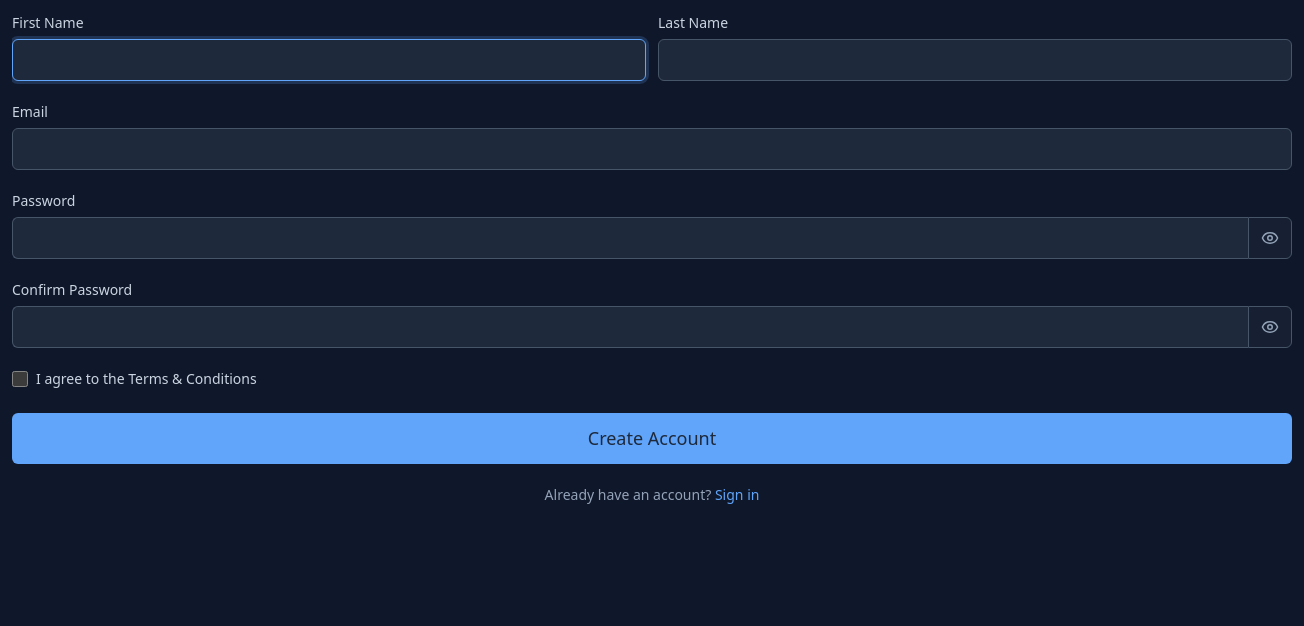
Test case: RegisterForm › validation › shows invalid email error for bad format
The image size is (1304, 626).
Type "notanemail" into the field labelled "Email" at (652, 149), box [12,128,1292,170]
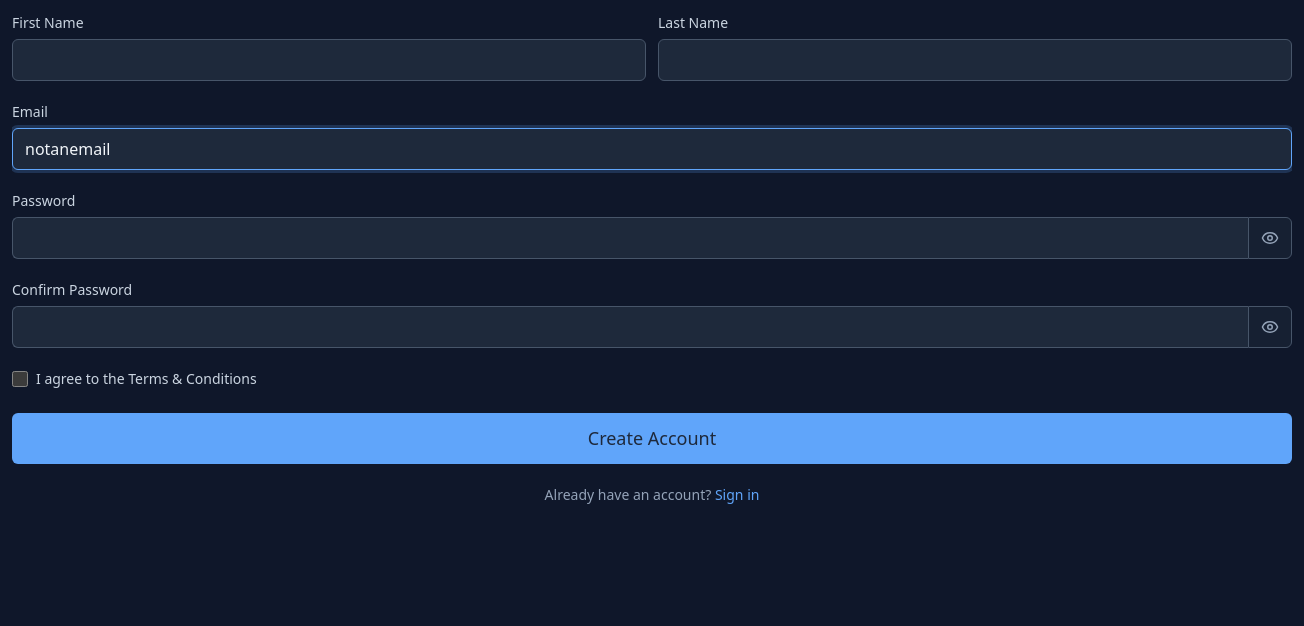
Click the button "Create Account" at (652, 438), box [12,413,1292,464]
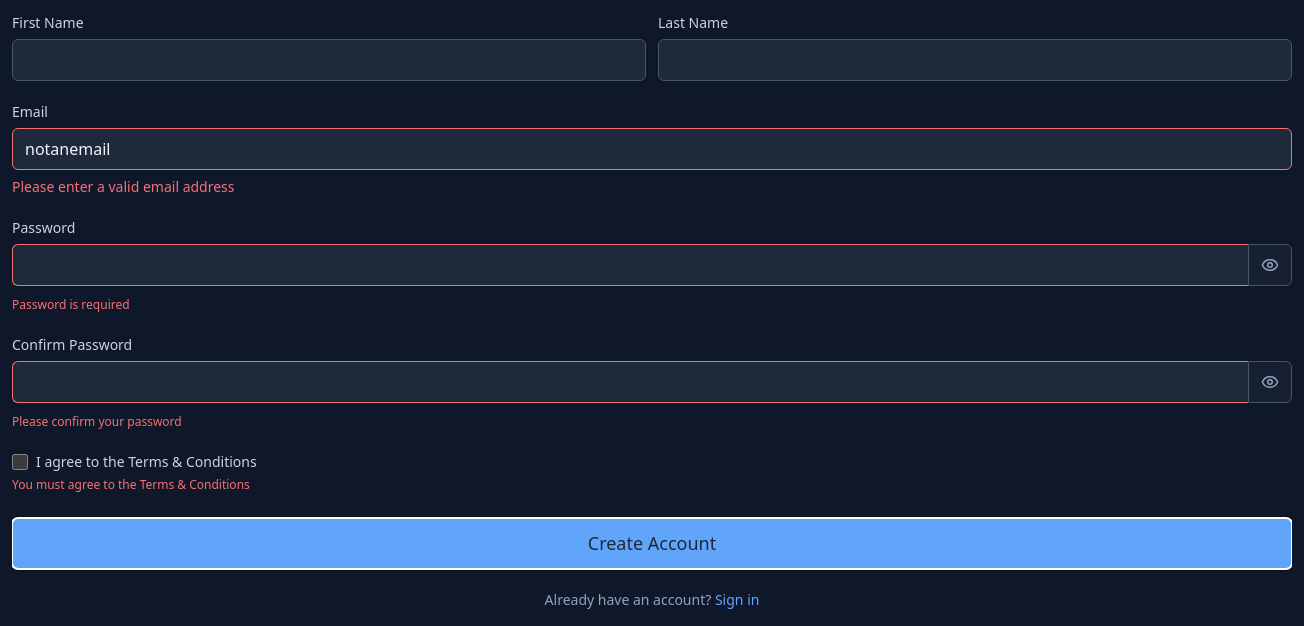
expect the text "Please enter a valid email address" is shown: met, box [12,177,234,196]
